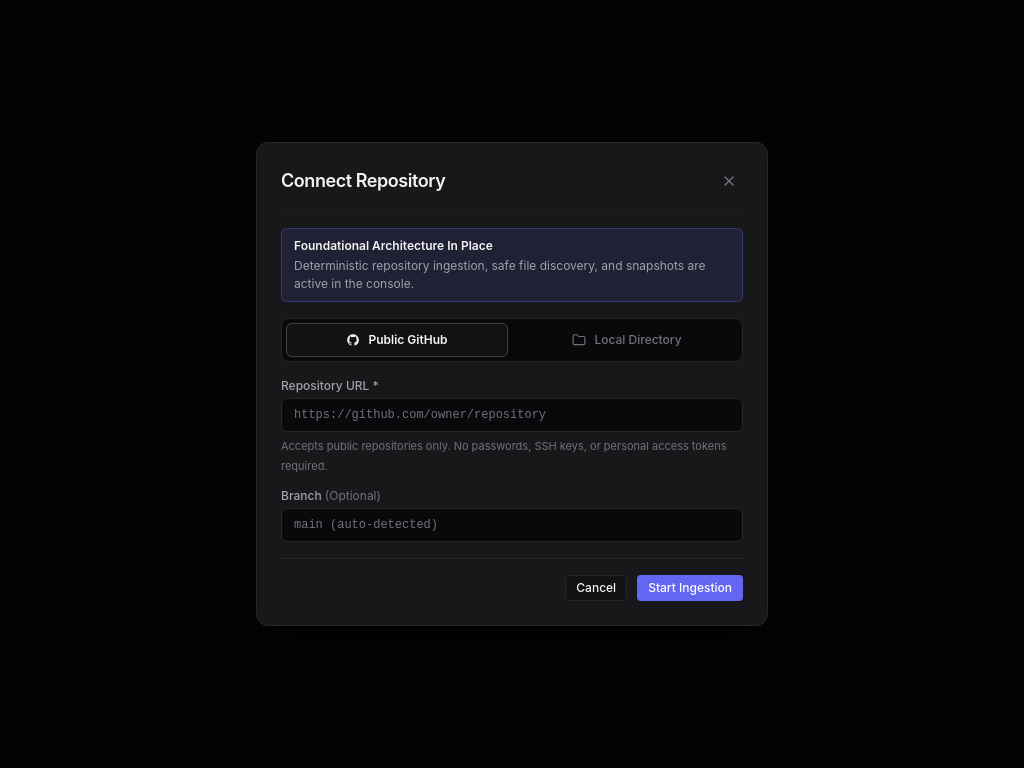
Scenario: AddRepositoryModal Component › switches to Local Directory form tab
Click the button "Local Directory" at (627,340), box top-left (516, 323), bottom-right (738, 357)
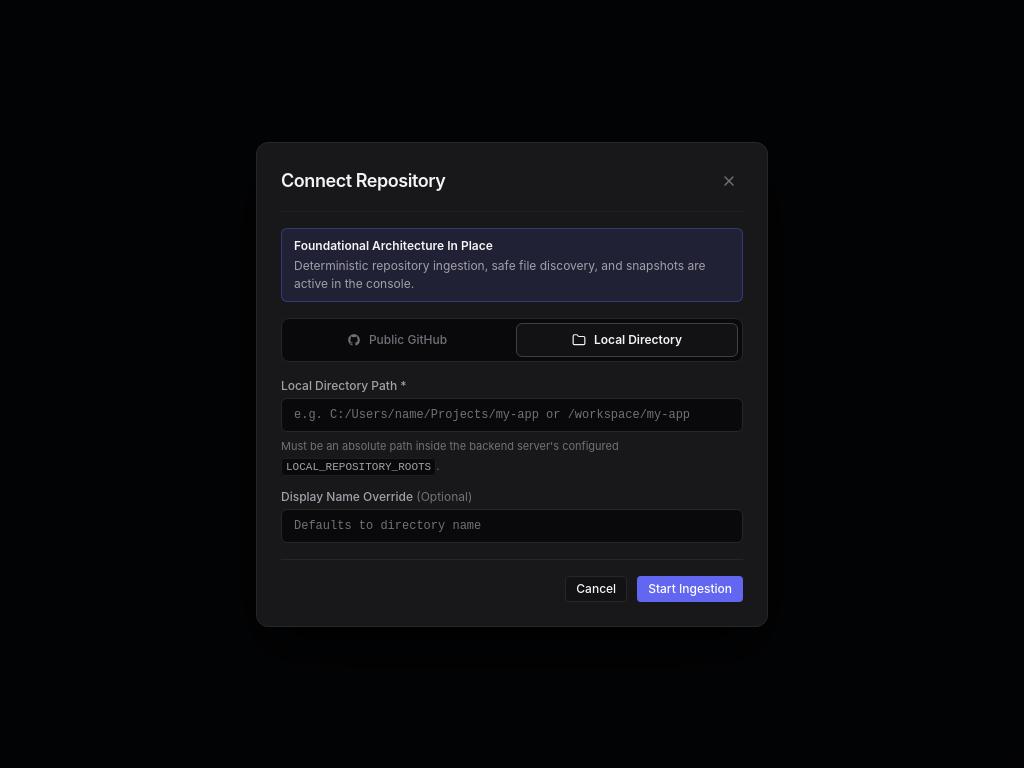
Expected: the field labelled "Local Directory Path *" is shown, top-left (281, 398), bottom-right (743, 432)
Result: the text "Must be an absolute path inside" is shown at top-left (281, 438), bottom-right (619, 452)
